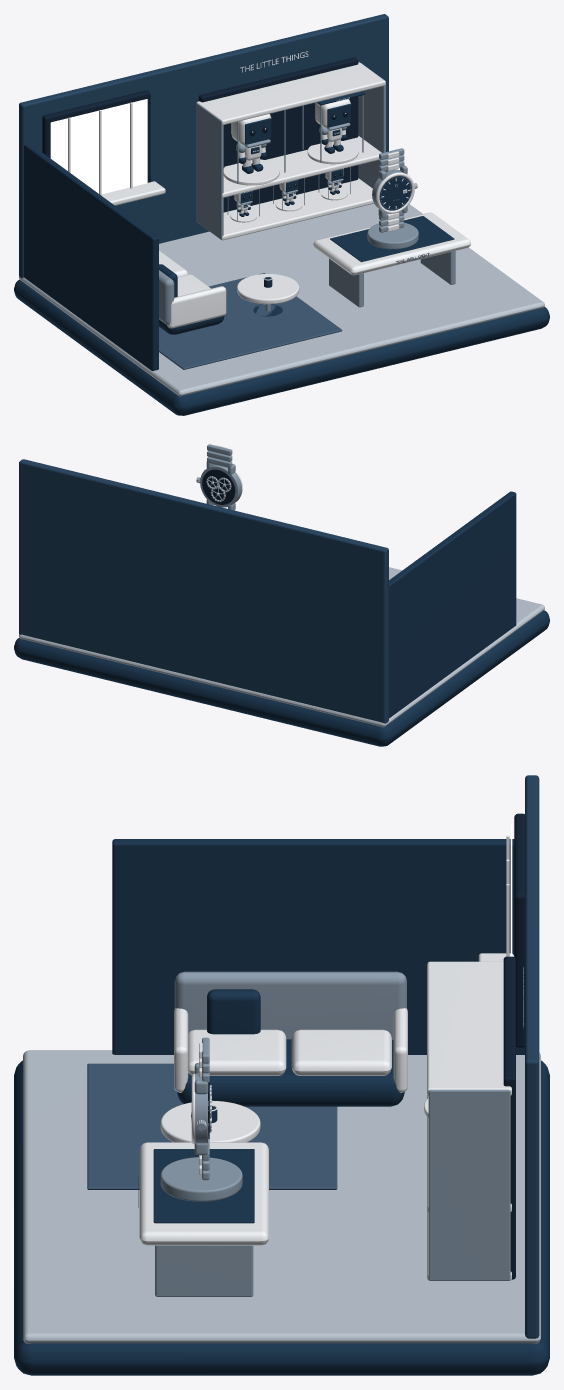
Rendered from home-journey.glb.
3 views of the same model, one above another, from view 1: azimuth 30°, elevation 25°; view 2: azimuth 150°, elevation 25°; view 3: azimuth 270°, elevation 25° (orthographic). The views are drawn at different scales.
Parts seen in each view (by area): view 1: Home floor, Back wall, Side wall, Home foundation, Home rug, Window glass, Shelf backing, Collector shelf.002, Shelf support, Collector shelf, Watch desk, Collector shelf.001 (+16 smaller); view 2: Back wall, Side wall, Home foundation, Home floor, Caseback, Watch case; view 3: Home floor, Side wall, Home foundation, Shelf support.001, Home rug, Sofa back, Collector shelf.002, Back wall, Sofa base, Watch desk, Watch desk leg.001, Sofa cushion.001 (+9 smaller).
Boxes of the visible parts, x1,y1,x2,y2 form: Home floor: [19, 203, 544, 396]; Back wall: [19, 14, 388, 278]; Side wall: [24, 143, 158, 370]; Home foundation: [14, 279, 549, 415]; Home rug: [159, 273, 342, 369]; Window glass: [50, 99, 147, 194]; Shelf backing: [198, 57, 358, 212]; Collector shelf.002: [196, 62, 385, 124]; Shelf support: [196, 103, 223, 239]; Collector shelf: [222, 178, 373, 240]; Watch desk: [313, 212, 470, 275]; Collector shelf.001: [222, 136, 381, 197]; Back wall: [19, 459, 388, 723]; Side wall: [389, 491, 516, 718]; Home foundation: [14, 610, 549, 746]; Home floor: [19, 567, 544, 727]; Caseback: [202, 469, 235, 504]; Watch case: [200, 464, 241, 507]; Home floor: [23, 1050, 540, 1343]; Side wall: [112, 839, 524, 1054]; Home foundation: [14, 1060, 549, 1375]; Shelf support.001: [428, 1089, 510, 1280]; Home rug: [87, 1063, 337, 1189]; Sofa back: [174, 971, 406, 1039]; Collector shelf.002: [427, 961, 511, 1095]; Back wall: [525, 775, 539, 1338]; Sofa base: [177, 1039, 404, 1106]; Watch desk: [139, 1142, 268, 1245]; Watch desk leg.001: [155, 1245, 253, 1296]; Sofa cushion.001: [291, 1029, 391, 1075].
Size of the model in its own units: 7.8 by 3.92 by 6.
